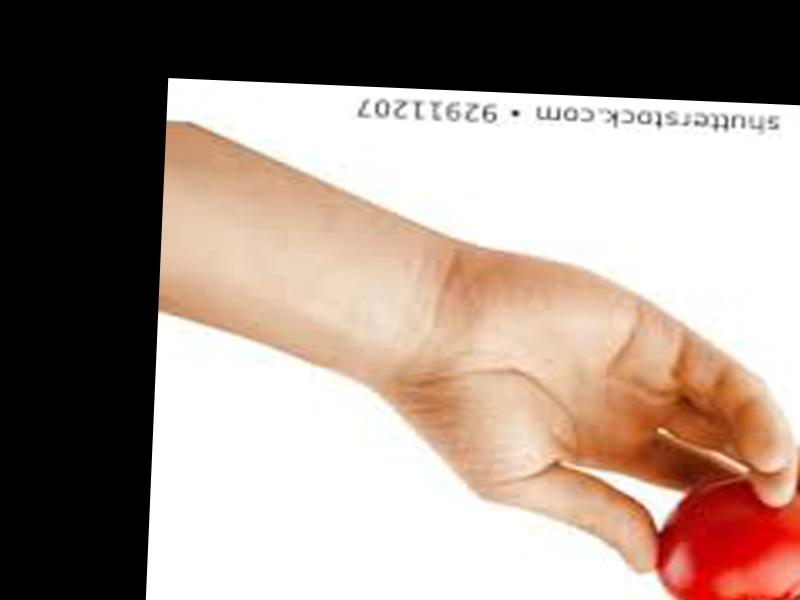Tomato: (652, 472, 800, 600)
